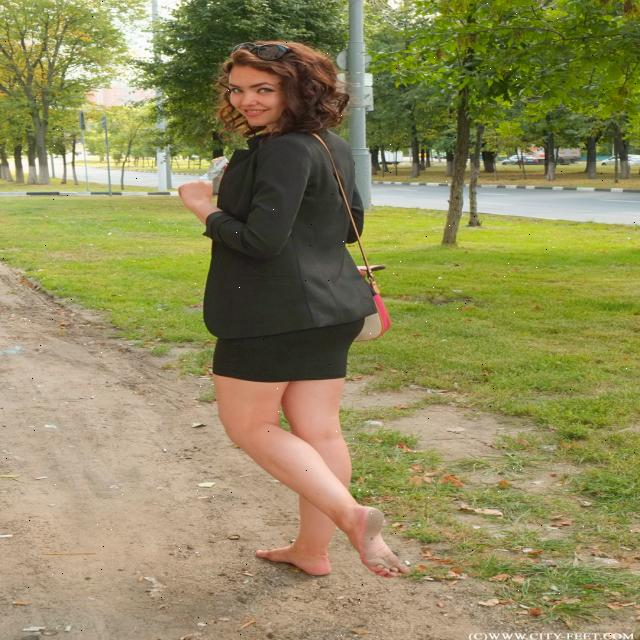No Safety Boots: (356, 506, 410, 578), (256, 546, 332, 576)
